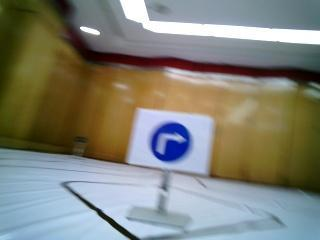right: (140, 111, 201, 166)
